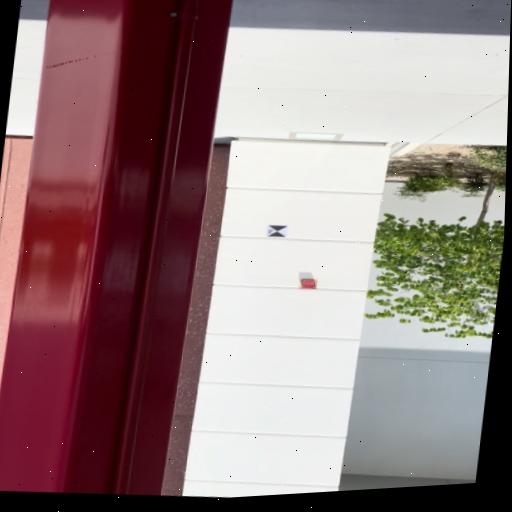target2: (265, 224, 289, 239)
